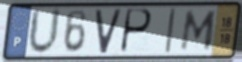6: (63, 8, 89, 55)
I: (163, 6, 178, 56)
M: (178, 9, 219, 53)
P: (118, 7, 154, 55)
U: (27, 6, 63, 57)
V: (94, 7, 124, 56)
